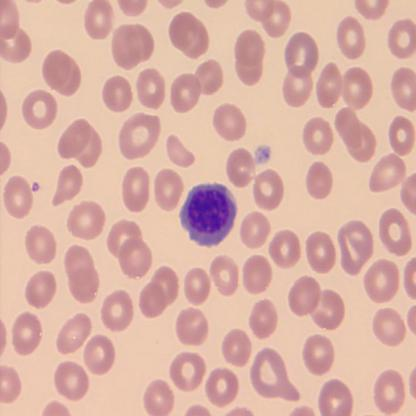NRC: (179, 181, 238, 248)
